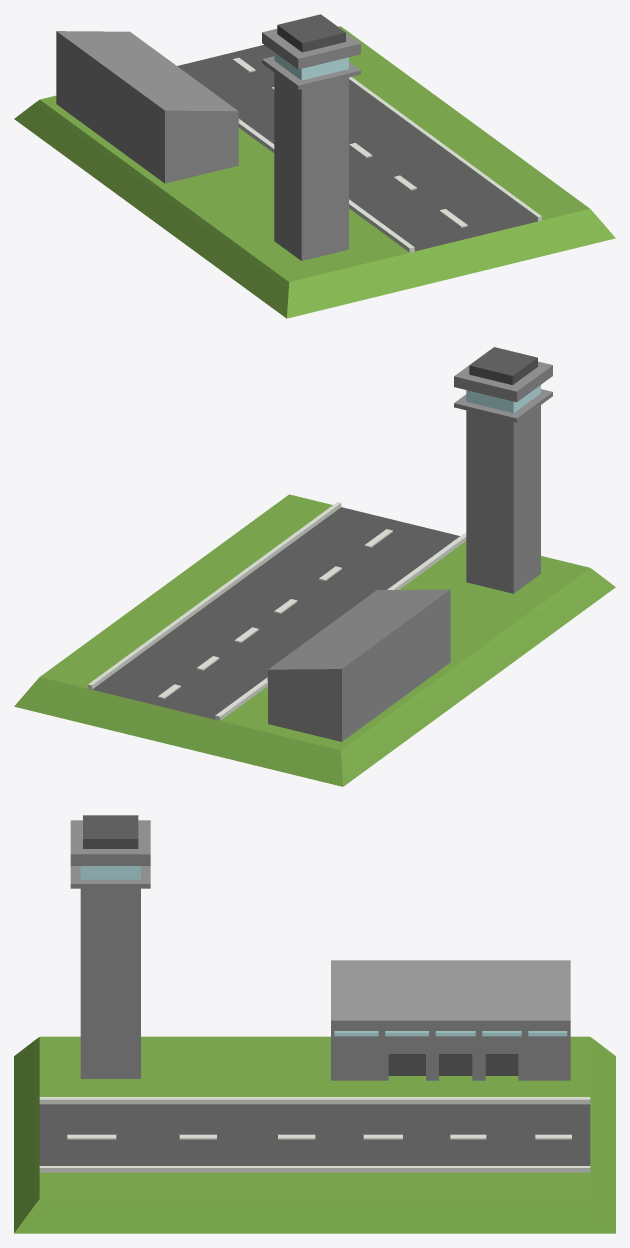
The model's file is airport_model.fbx.
The picture shows the model from 3 angles, top to bottom: view 1: azimuth 30°, elevation 25°; view 2: azimuth 150°, elevation 25°; view 3: azimuth 270°, elevation 25°; orthographic projection. The views are drawn at different scales.
Parts seen in each view (by area): view 1: pCube4; view 2: pCube4; view 3: pCube4.
Part boxes in pixels (x1,y1,x2,y2): pCube4: [14, 14, 615, 318]; pCube4: [14, 347, 615, 786]; pCube4: [14, 815, 615, 1233].
Bounding box in the file's own units: 12.63 × 8.84 × 18.13.
1 material, 1 textured.
